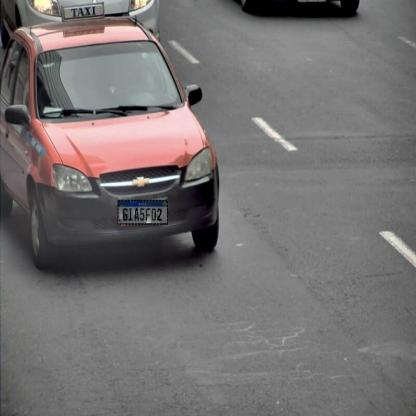PlacaM: (117, 199, 168, 224)
